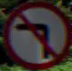Don't turn left: (13, 4, 59, 63)
